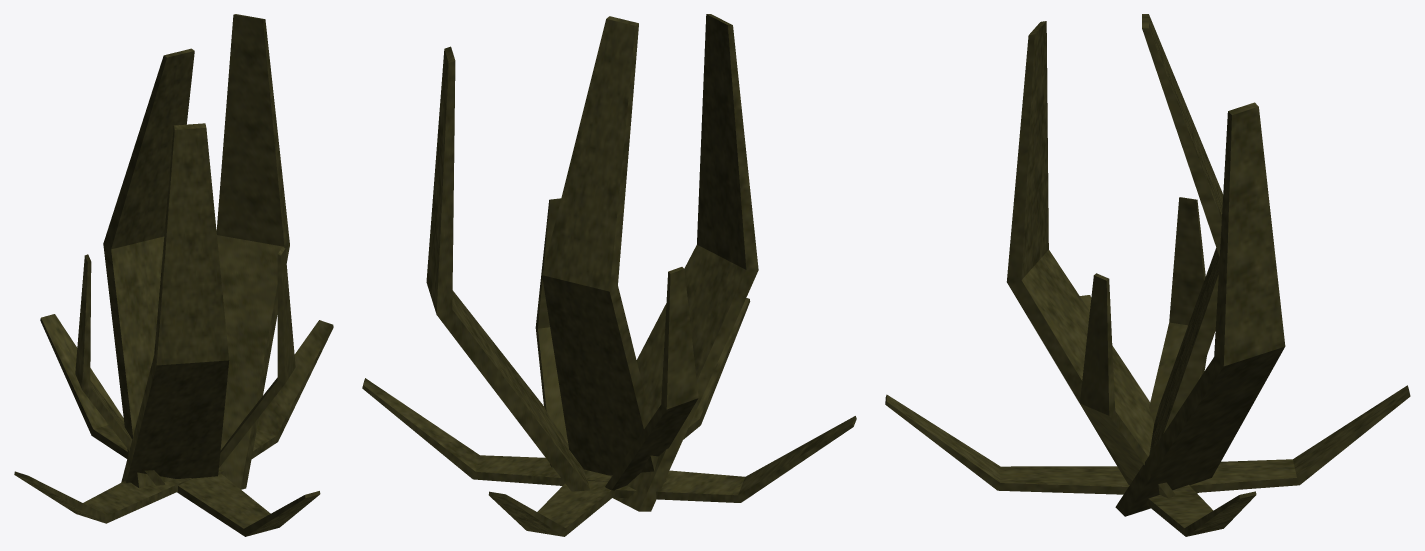
File: Grama_Pantanosa.fbx
3 views of the same model, side by side, from view 1: azimuth 30°, elevation 25°; view 2: azimuth 150°, elevation 25°; view 3: azimuth 270°, elevation 25° (orthographic). The views are drawn at different scales.
Visible parts, largest first — view 1: Gramado; view 2: Gramado; view 3: Gramado.
Part boxes in pixels (x1=…): Gramado: x1=14, y1=14, x2=333, y2=536; Gramado: x1=362, y1=14, x2=856, y2=536; Gramado: x1=885, y1=14, x2=1410, y2=536.
Size of the model in its own units: 47.51 by 51.39 by 52.46.
Materials: 1 (1 with a texture image).
